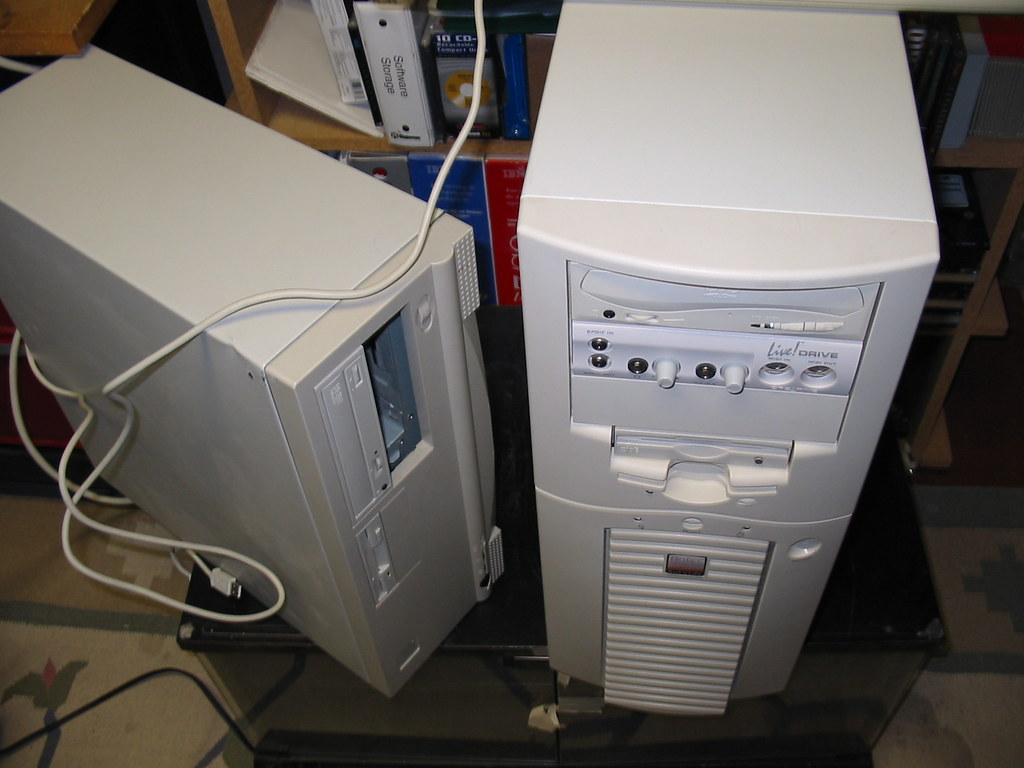computer: (1, 42, 505, 699), (516, 2, 942, 718)
